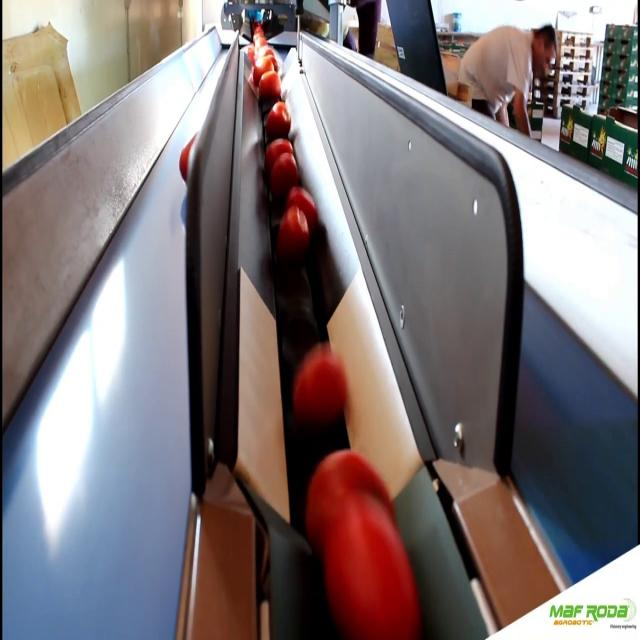Tomato: (320, 502, 422, 628), (302, 456, 395, 523), (294, 343, 352, 421), (278, 205, 308, 259), (180, 132, 198, 187), (269, 157, 299, 189), (260, 108, 294, 136), (255, 72, 283, 104), (286, 188, 322, 208), (267, 136, 293, 158), (252, 56, 272, 78)
